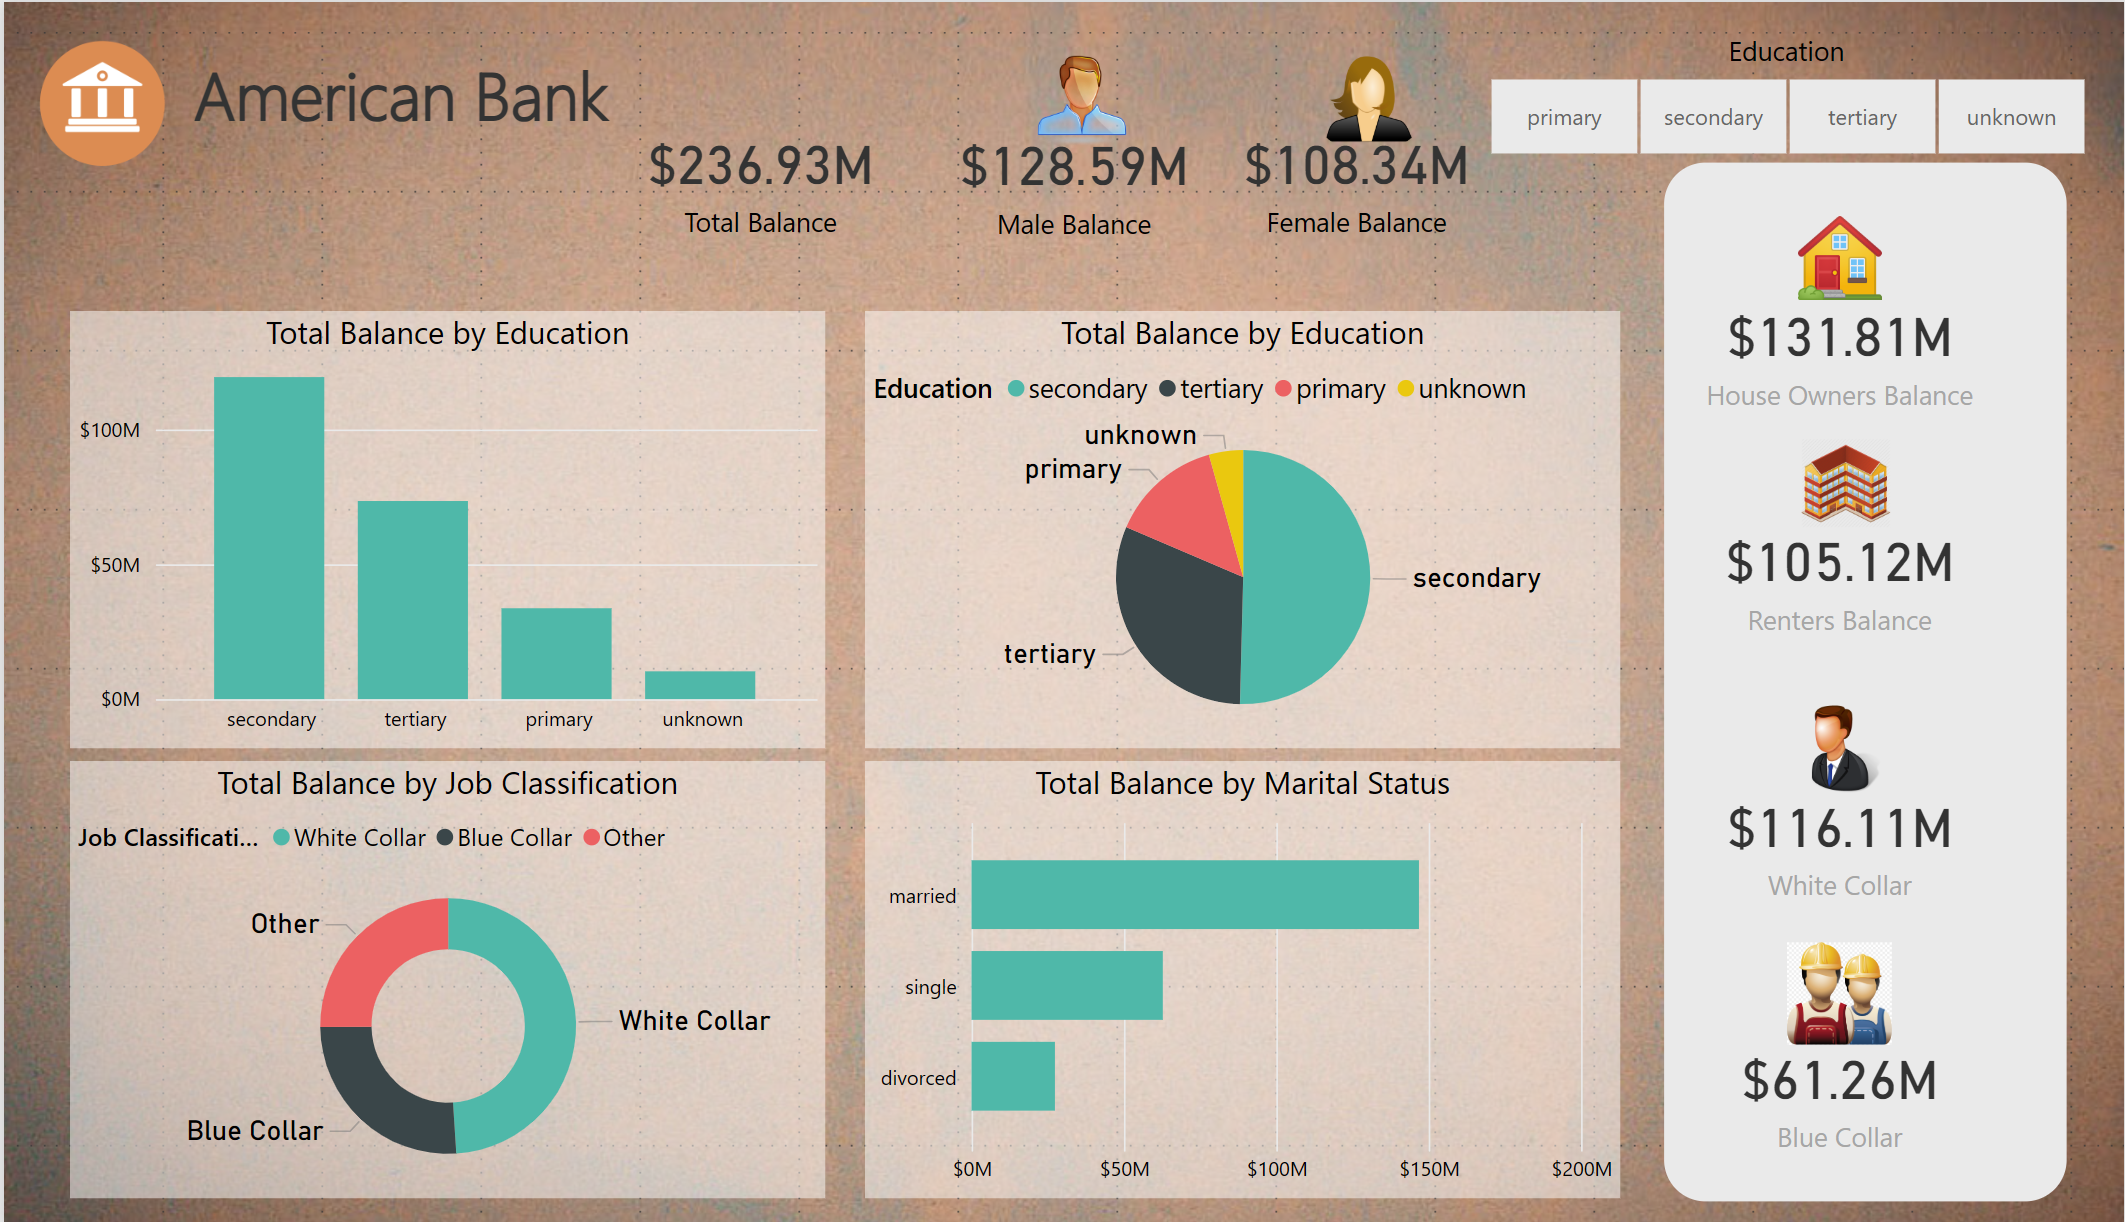

The page's visual inventory and layout, read from the dashboard file:
{"tool":"powerbi","page":{"name":"By Balance","canvas":[1280,720],"ordinal":2},"visuals":[{"type":"image","box":[0,0,118.3,86.5],"z":0},{"type":"textbox","box":[109.2,4.6,274.9,75.6],"z":1000},{"type":"basicShape","box":[1000,72,248,640],"z":2000},{"type":"slicer","title":"Education","fields":{"Values":["America Bank New.Education"]},"box":[872,0,408,80],"z":3000},{"type":"card","fields":{"Values":["All Measures.Total Balance"]},"box":[360,40,192,96],"z":4000},{"type":"card","fields":{"Values":["All Measures.House Owners Balance"]},"box":[1008,152,200,80],"z":5000},{"type":"card","fields":{"Values":["All Measures.Renters Balance"]},"box":[1008,288,200,80],"z":6000},{"type":"card","fields":{"Values":["All Measures.White Collar"]},"box":[1008,448,200,80],"z":7000},{"type":"card","fields":{"Values":["All Measures.Blue Collar"]},"box":[1008,600,200,80],"z":8000},{"type":"image","box":[1016,104,184,64],"z":9000},{"type":"image","box":[1040,240,144,64],"z":10000},{"type":"image","box":[1048,400,128,64],"z":11000},{"type":"image","box":[1048,544,120,72],"z":12000},{"type":"card","fields":{"Values":["All Measures.Male Balance"]},"box":[570,49.2,152,80],"z":13000},{"type":"image","box":[610,9.2,80,64],"z":14000},{"type":"card","fields":{"Values":["All Measures.Female Balance"]},"box":[736,48,160,80],"z":15000},{"type":"image","box":[760,8,128,64],"z":16000},{"type":"pieChart","fields":{"Category":["America Bank New.Education"],"Y":["All Measures.Total Balance"]},"box":[520,168,456,264],"z":17000},{"type":"donutChart","fields":{"Category":["America Bank New.Job Classification"],"Y":["All Measures.Total Balance"]},"box":[40,440,456,264],"z":18000},{"type":"clusteredColumnChart","fields":{"Y":["All Measures.Total Balance"],"Category":["America Bank New.Education"]},"box":[40,168,456,264],"z":19000},{"type":"barChart","fields":{"Y":["All Measures.Total Balance"],"Category":["America Bank New.Marital Status"]},"box":[520,440,456,264],"z":20000}]}

Visuals, with their boxes in screenshot pixels (x1, y1, x2, y2), scaled from the page's 1280x720 canvas onto the 2125x1222 screenshot:
image: <box>0,0,196,147</box>
textbox: <box>181,8,638,136</box>
basicShape: <box>1660,122,2072,1208</box>
"Education" slicer: <box>1448,0,2124,136</box>
card - All Measures.Total Balance: <box>598,68,916,231</box>
card - All Measures.House Owners Balance: <box>1673,258,2005,394</box>
card - All Measures.Renters Balance: <box>1673,489,2005,625</box>
card - All Measures.White Collar: <box>1673,760,2005,896</box>
card - All Measures.Blue Collar: <box>1673,1018,2005,1154</box>
image: <box>1687,177,1992,285</box>
image: <box>1727,407,1966,516</box>
image: <box>1740,679,1952,788</box>
image: <box>1740,923,1939,1045</box>
card - All Measures.Male Balance: <box>946,84,1199,219</box>
image: <box>1013,16,1146,124</box>
card - All Measures.Female Balance: <box>1222,81,1488,217</box>
image: <box>1262,14,1474,122</box>
pieChart - America Bank New.Education x All Measures.Total Balance: <box>863,285,1620,733</box>
donutChart - America Bank New.Job Classification x All Measures.Total Balance: <box>66,747,823,1195</box>
clusteredColumnChart - All Measures.Total Balance x America Bank New.Education: <box>66,285,823,733</box>
barChart - All Measures.Total Balance x America Bank New.Marital Status: <box>863,747,1620,1195</box>
